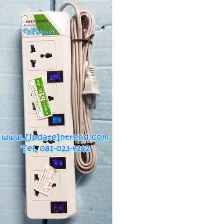three_eye_plug: (17, 9, 79, 221)
